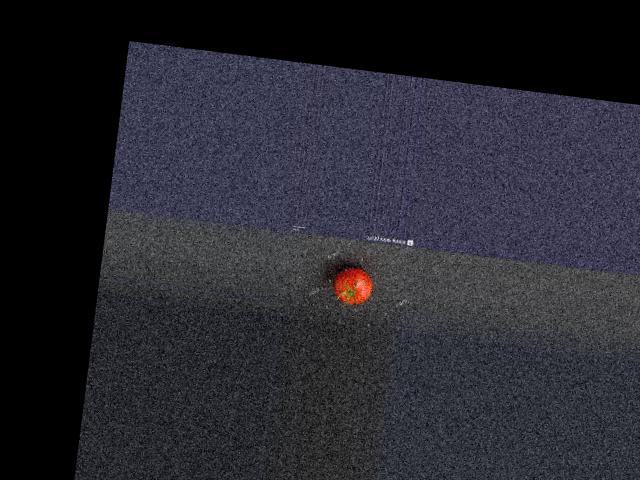tomato: (331, 266, 374, 306)
